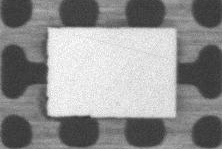DIE_CRACK: (110, 23, 222, 39)
